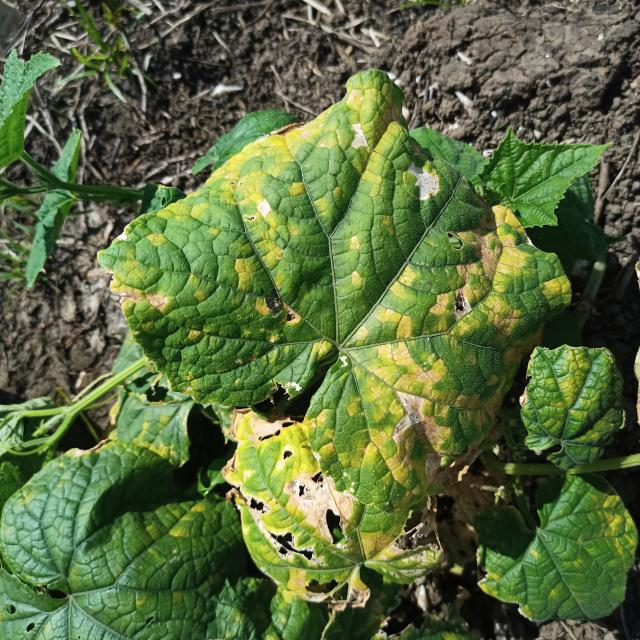disease_cucumber: (99, 69, 564, 597)
